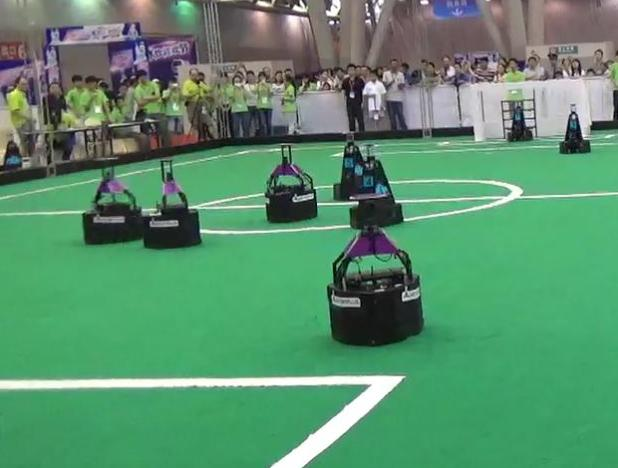robot: (324, 190, 428, 348), (80, 151, 143, 246), (142, 159, 202, 250), (260, 143, 323, 225)
